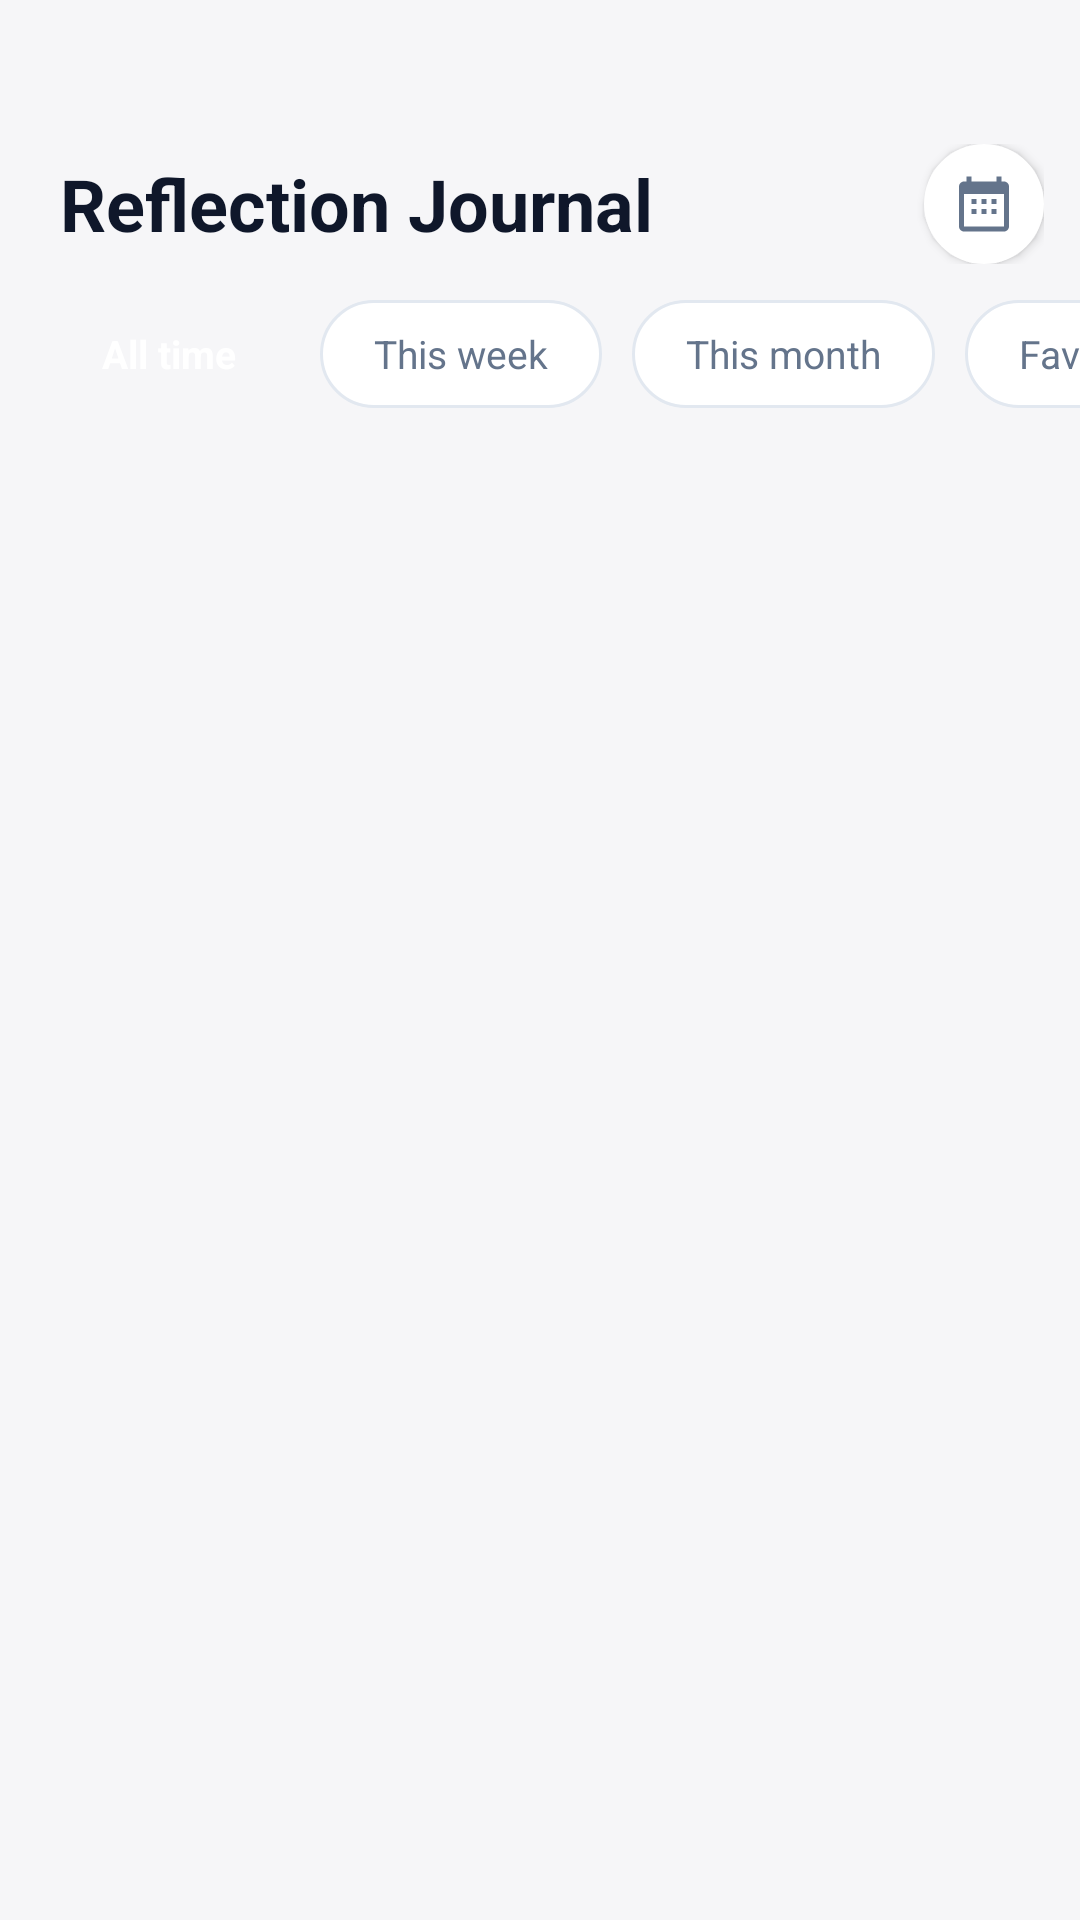

Screen size 1080×1920. Icon name, then its center in pixels as point (x, y):
calendar: point (984, 204)
